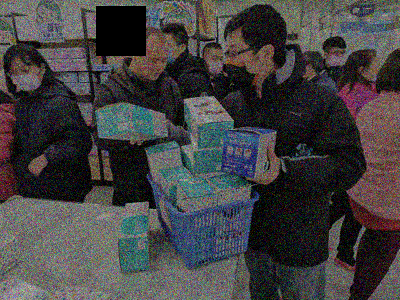with_mask: (225, 44, 261, 93), (8, 64, 43, 93), (208, 52, 225, 77), (328, 48, 348, 66)
without_mask: (138, 55, 169, 82)
